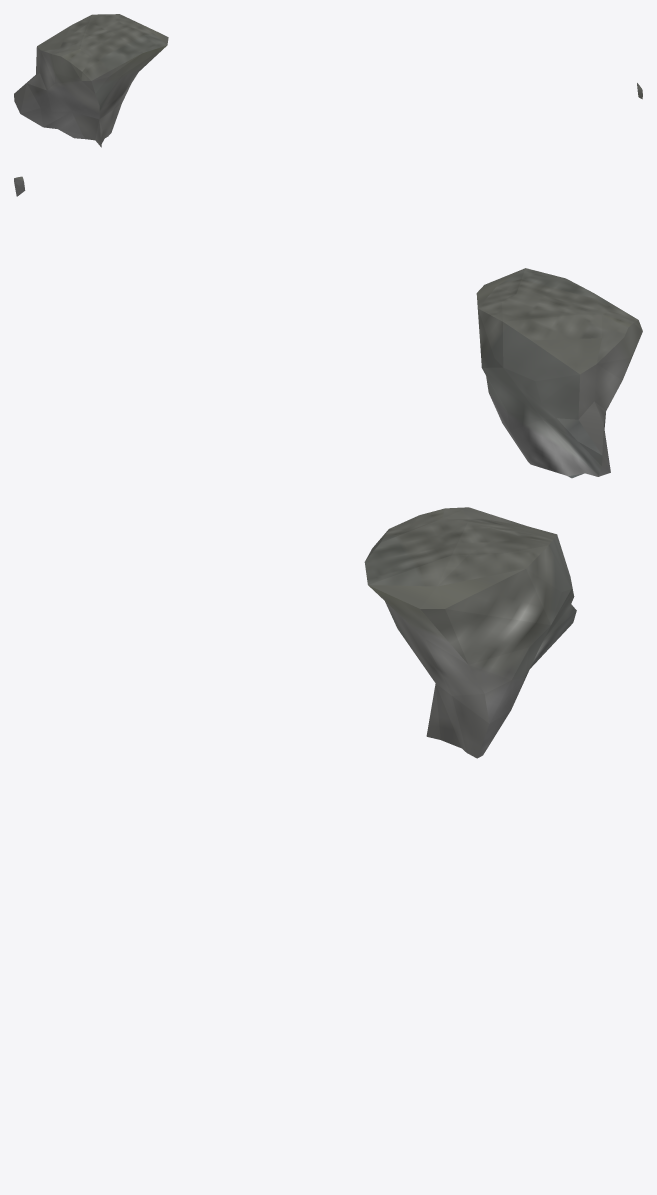
Rendered from Tile_+007_+011_L20_0uuuu33.glb.
3 renders of one model, top to bottom at view 1: azimuth 30°, elevation 25°; view 2: azimuth 150°, elevation 25°; view 3: azimuth 270°, elevation 25°, orthographic. The views are drawn at different scales.
Visible parts, largest first — view 1: rtc; view 2: rtc; view 3: rtc.
Part boxes in pixels (x1,y1,x2,y2): rtc: [14, 14, 642, 147]; rtc: [14, 176, 642, 478]; rtc: [364, 507, 576, 758].
Size of the model in its own units: 9.64 by 1.96 by 4.1.
1 material, 1 textured.
